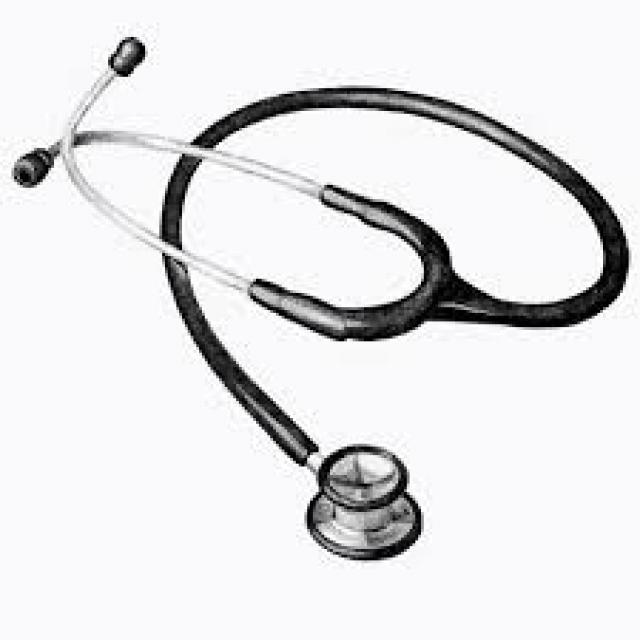stethoscope: (10, 19, 631, 603)
